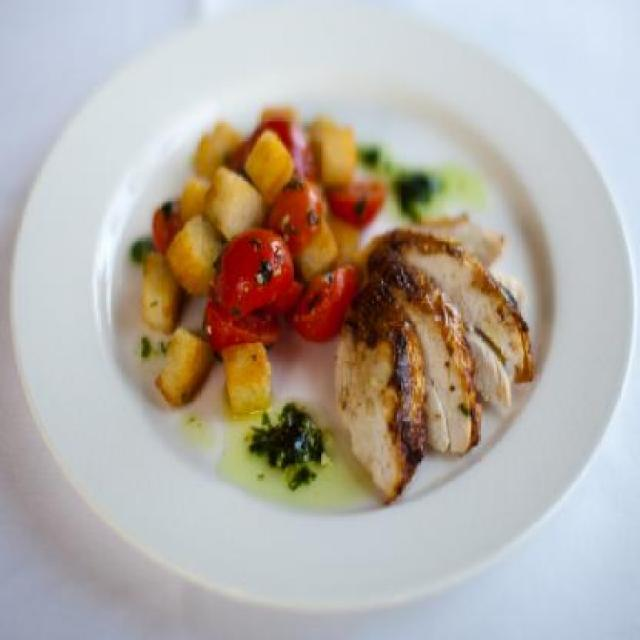Tomato: (203, 232, 297, 326), (293, 261, 361, 341), (266, 180, 325, 260), (203, 298, 280, 352), (330, 178, 388, 232)
